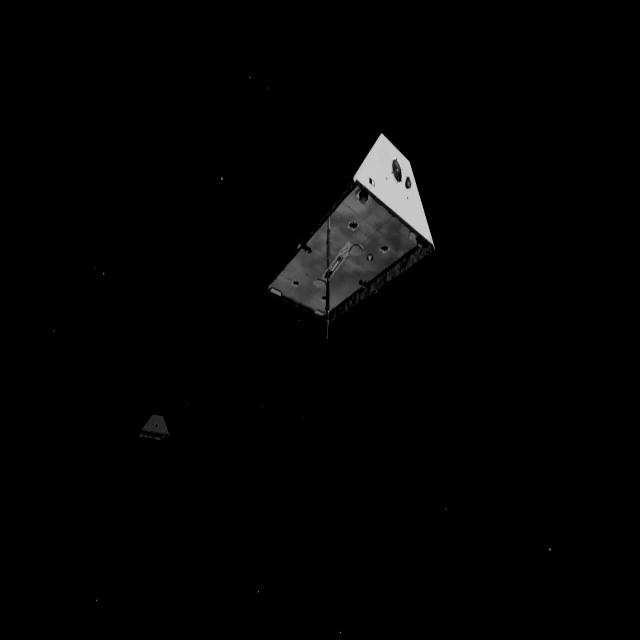large_debris: (130, 402, 190, 457)
medium_debris: (243, 82, 467, 393)
